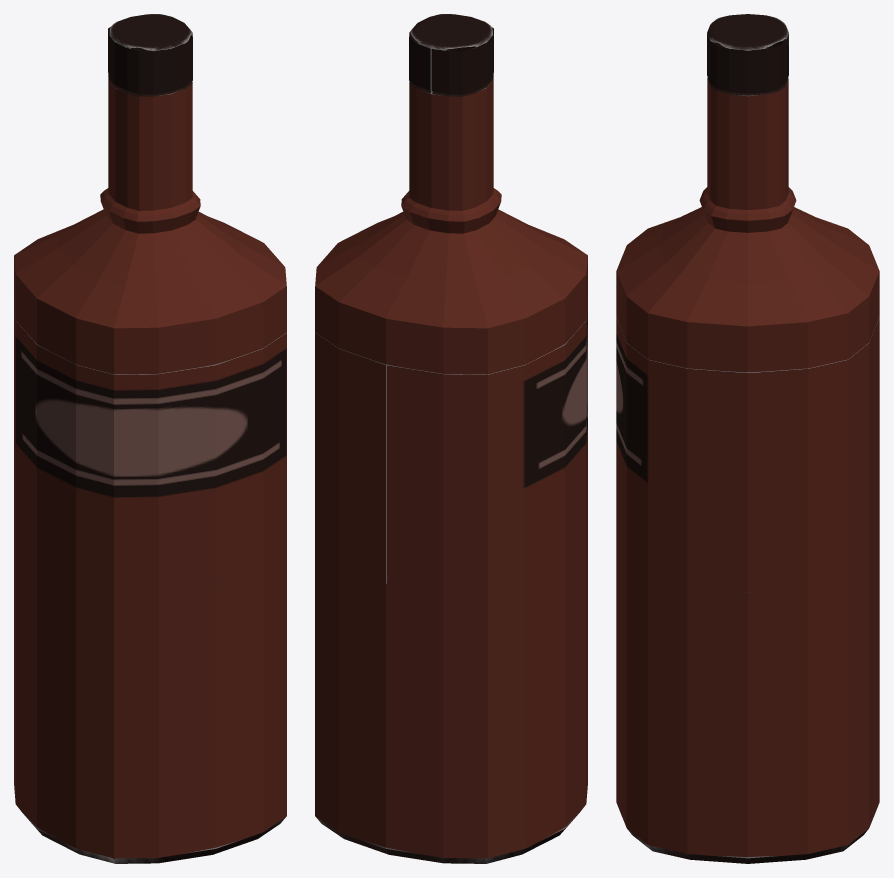
The model's file is bottle3.fbx.
3 views of the same model, side by side, from view 1: azimuth 30°, elevation 25°; view 2: azimuth 150°, elevation 25°; view 3: azimuth 270°, elevation 25° (orthographic).
Parts seen in each view (by area): view 1: pPlane1; view 2: pPlane1; view 3: pPlane1.
Part boxes in pixels (<box>): pPlane1: <box>14,14,286,863</box>; pPlane1: <box>315,14,587,863</box>; pPlane1: <box>616,14,879,863</box>.
Bounding box in the file's own units: 8.91 × 29.2 × 8.91.
